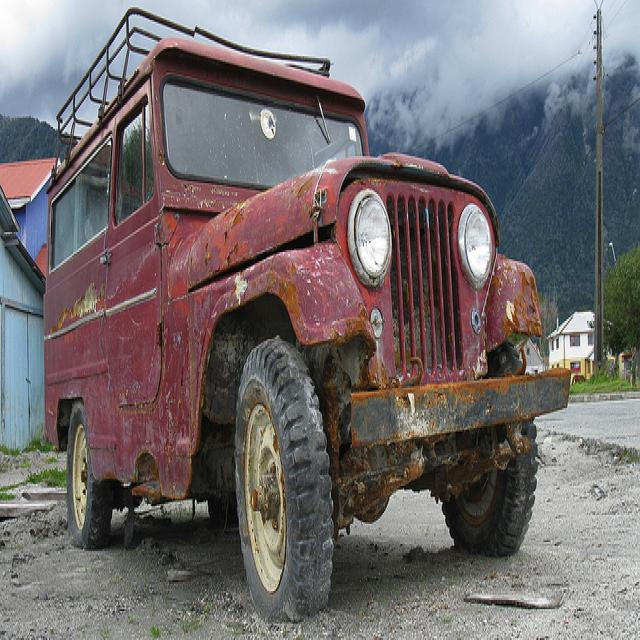Vehicle: (42, 33, 574, 624), (46, 8, 578, 570), (570, 372, 588, 386)
